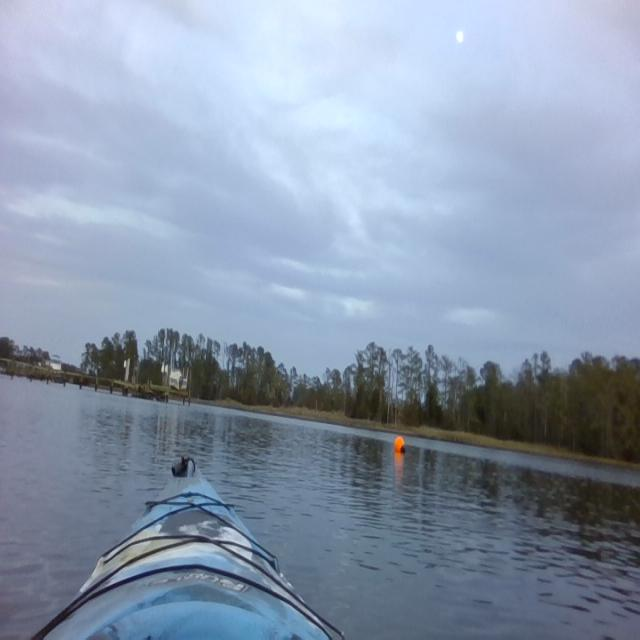Buoy: (394, 432, 406, 459)
